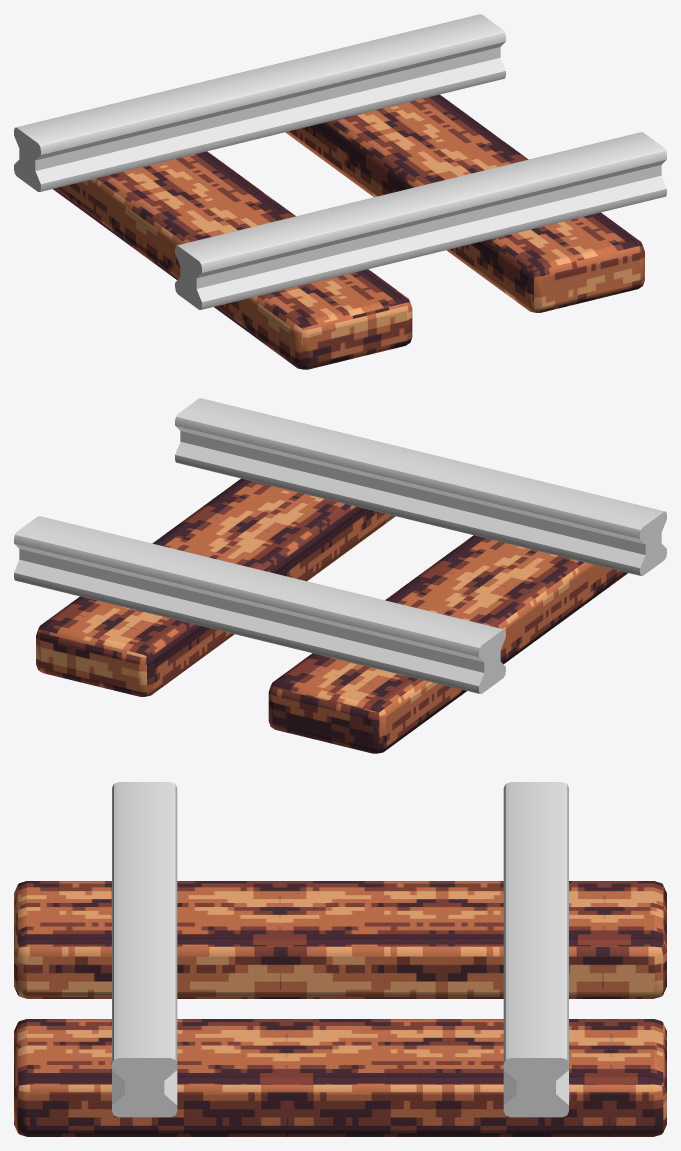
File: Rail 01.fbx
The picture shows the model from 3 angles, top to bottom: view 1: azimuth 30°, elevation 25°; view 2: azimuth 150°, elevation 25°; view 3: azimuth 270°, elevation 25°; orthographic projection. The views are drawn at different scales.
Parts seen in each view (by area): view 1: Rail.001; view 2: Rail.001; view 3: Rail.001.
Part boxes in pixels (x1=…): Rail.001: x1=14, y1=14, x2=666, y2=369; Rail.001: x1=14, y1=398, x2=666, y2=753; Rail.001: x1=14, y1=782, x2=666, y2=1136.
Size of the model in its own units: 1 by 0.2 by 1.
